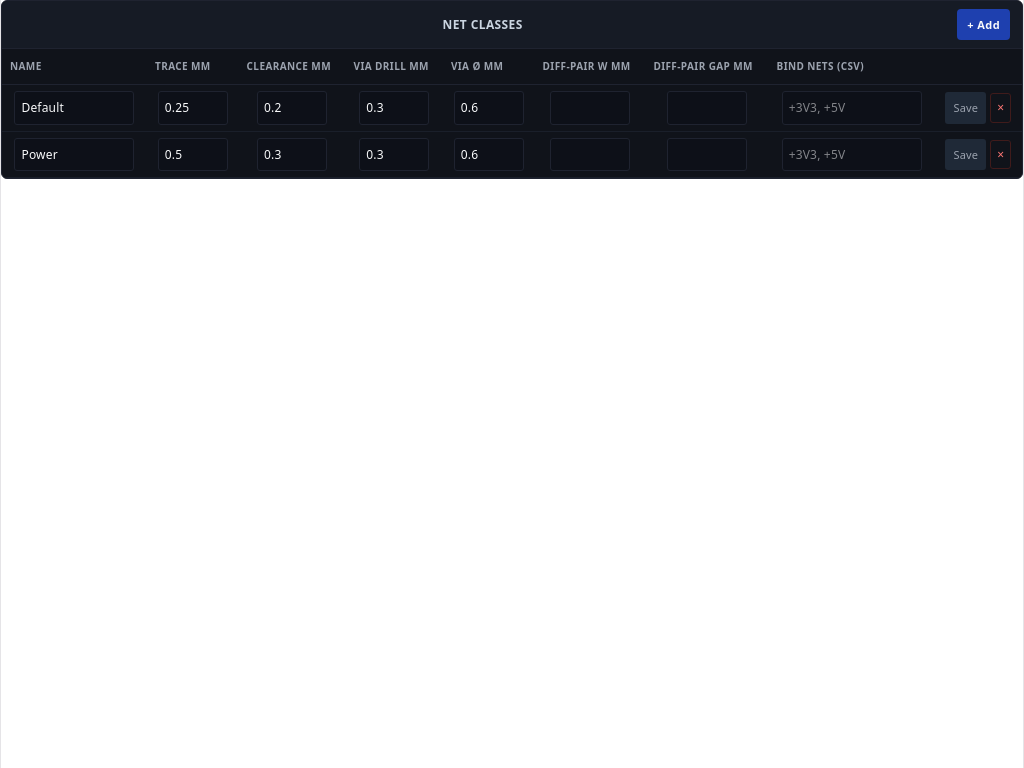
NetClassPanel › Delete on Default refuses without round-tripping
Click the 1st button with test id "netclass-delete" at coordinates (1001, 108), box [990,93,1011,123]
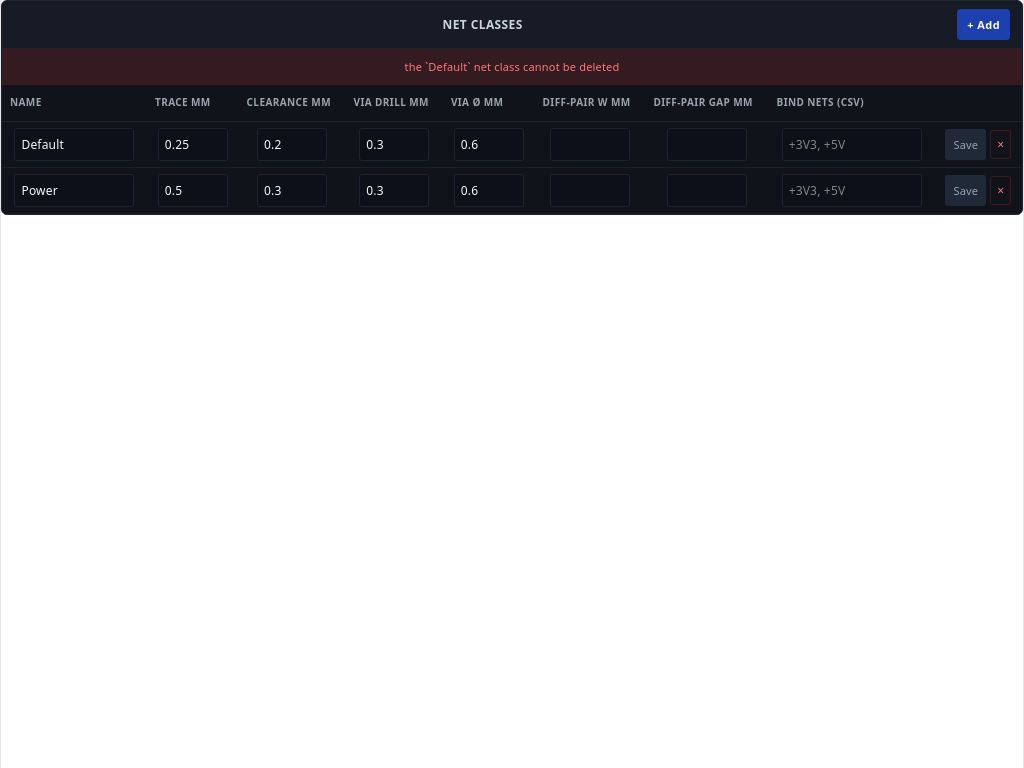
expect the text with test id "netclass-error" shows "Default": met, box [404,59,619,74]
